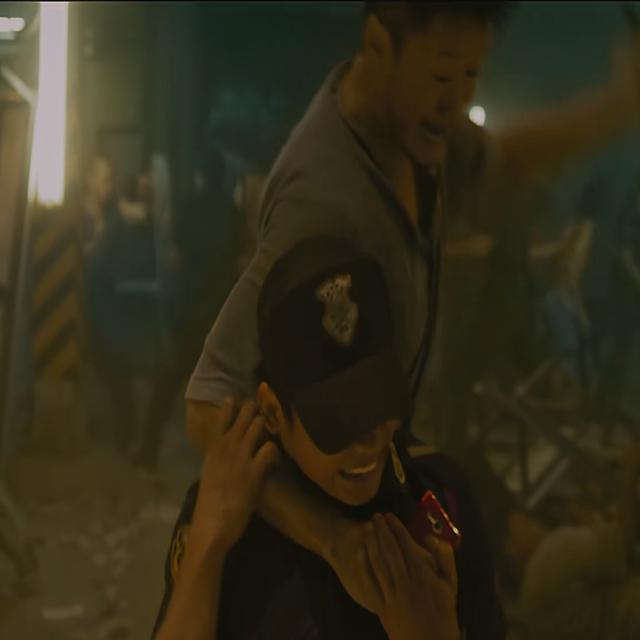fight: (151, 1, 514, 639)
